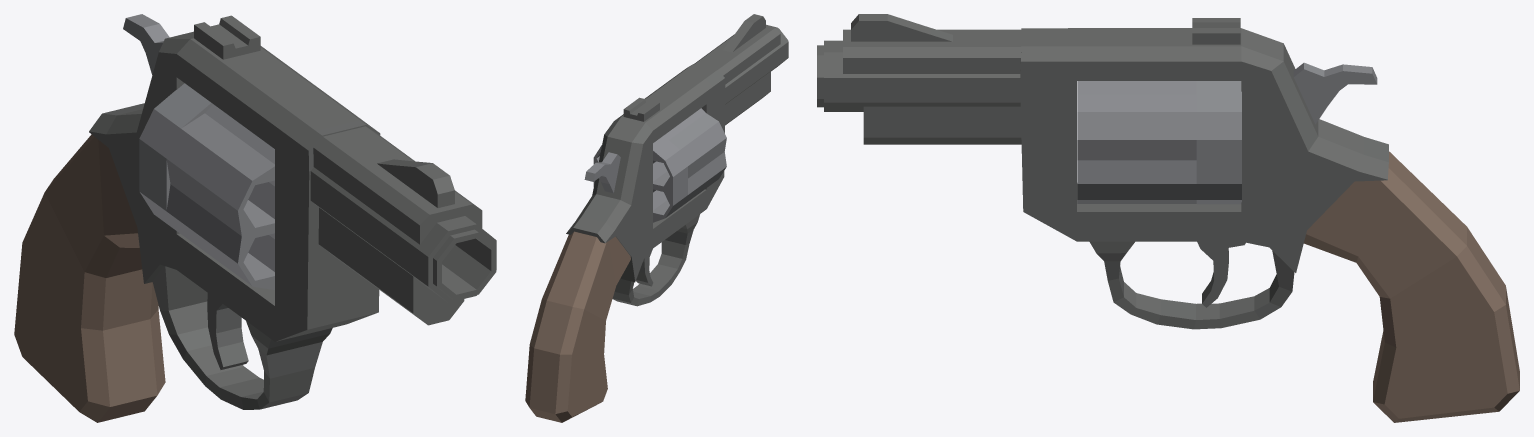
The model's file is revolver_4.glb.
3 views of the same model, side by side, from view 1: azimuth 30°, elevation 25°; view 2: azimuth 150°, elevation 25°; view 3: azimuth 270°, elevation 25° (orthographic). The views are drawn at different scales.
Visible parts, largest first — view 1: revolver_4; view 2: revolver_4; view 3: revolver_4.
Boxes of the visible parts, <box> form: revolver_4: <box>14,14,496,422</box>; revolver_4: <box>525,14,788,422</box>; revolver_4: <box>817,14,1519,422</box>.
Size of the model in its own units: 0.0445 by 0.1383 by 0.2226.
